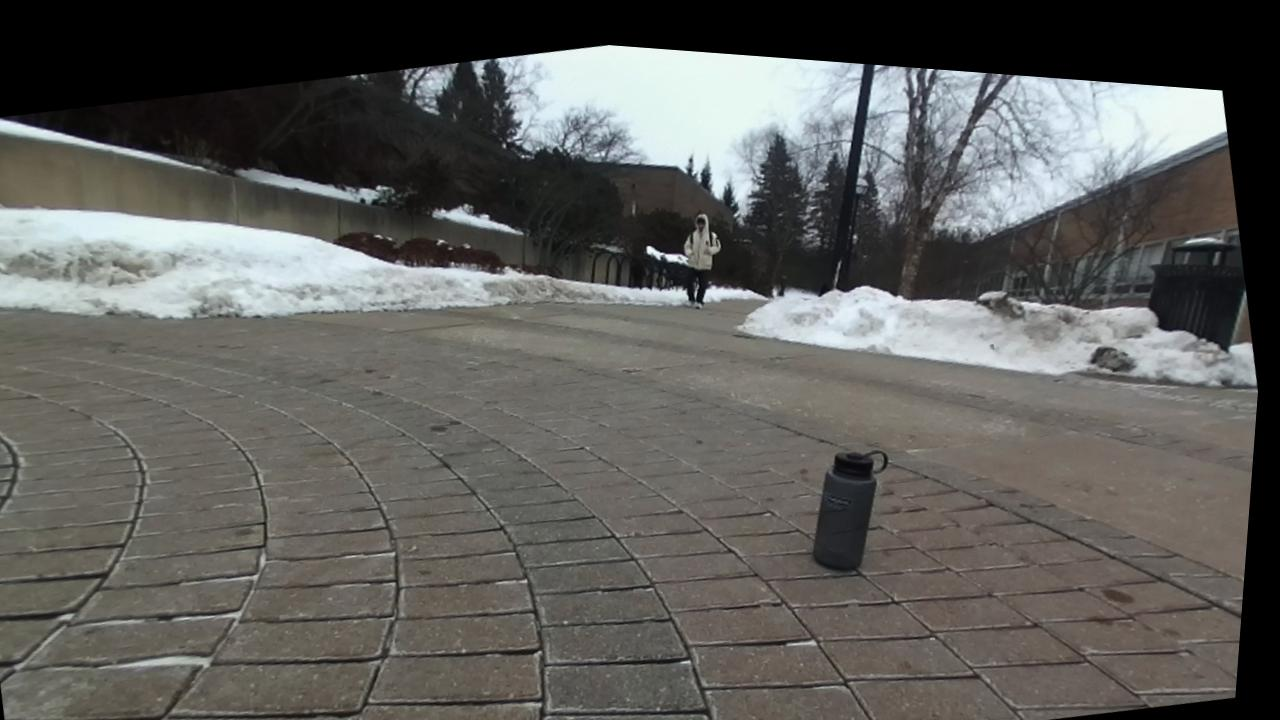bottle: (813, 450, 886, 569)
